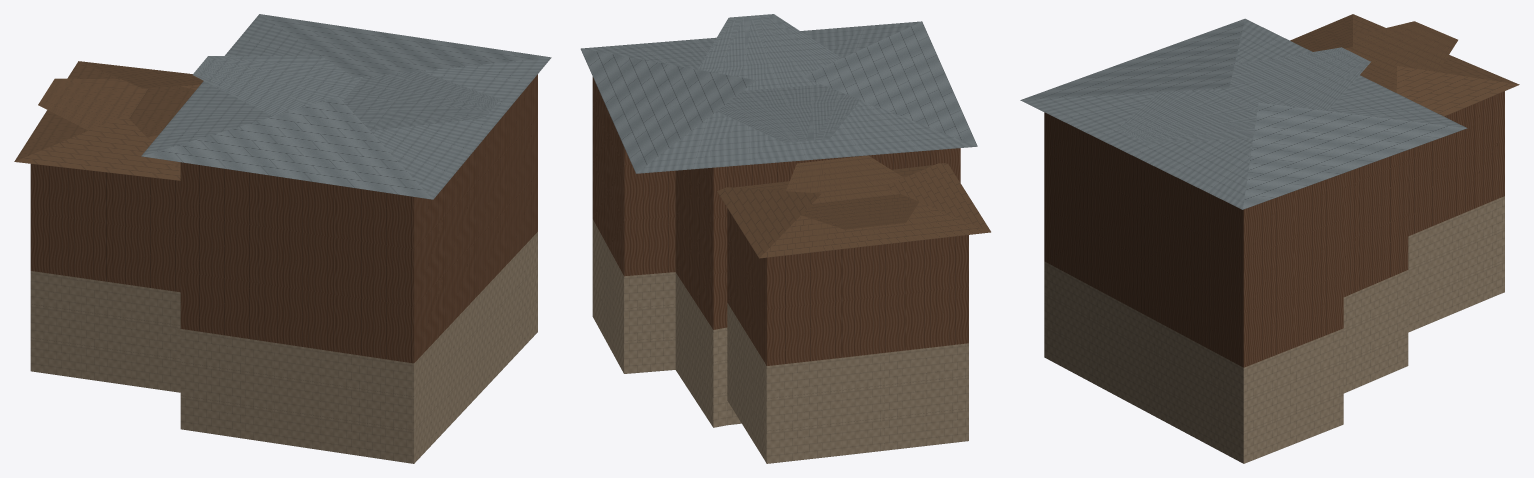
File: bld_c22_-49_540.gltf
3 renders of one model, left to right at view 1: azimuth 30°, elevation 25°; view 2: azimuth 150°, elevation 25°; view 3: azimuth 270°, elevation 25°, orthographic. The views are drawn at different scales.
Visible parts, largest first — view 1: bld_c22_-49_540; view 2: bld_c22_-49_540; view 3: bld_c22_-49_540.
Boxes of the visible parts, x1=… form: bld_c22_-49_540: x1=14, y1=14, x2=551, y2=463; bld_c22_-49_540: x1=580, y1=14, x2=990, y2=463; bld_c22_-49_540: x1=1020, y1=14, x2=1519, y2=463.
Bounding box in the file's own units: 25.5 × 14.8 × 24.03.
Materials: 4 (4 with a texture image).
